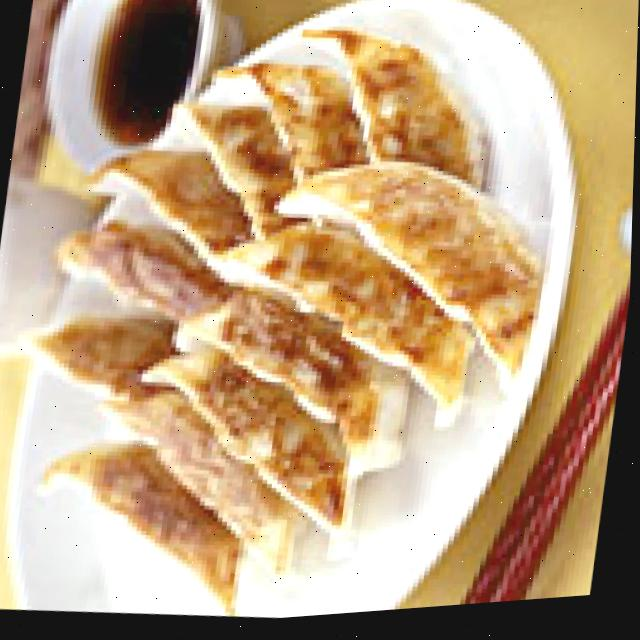带馅早点: (8, 1, 605, 625)
